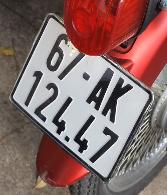1: (16, 64, 43, 108)
2: (35, 78, 58, 124)
4: (74, 110, 96, 157), (53, 93, 73, 139)
6: (46, 31, 68, 74)
7: (88, 126, 121, 166), (58, 46, 86, 83)
A: (85, 68, 114, 109)
K: (103, 73, 133, 125)
